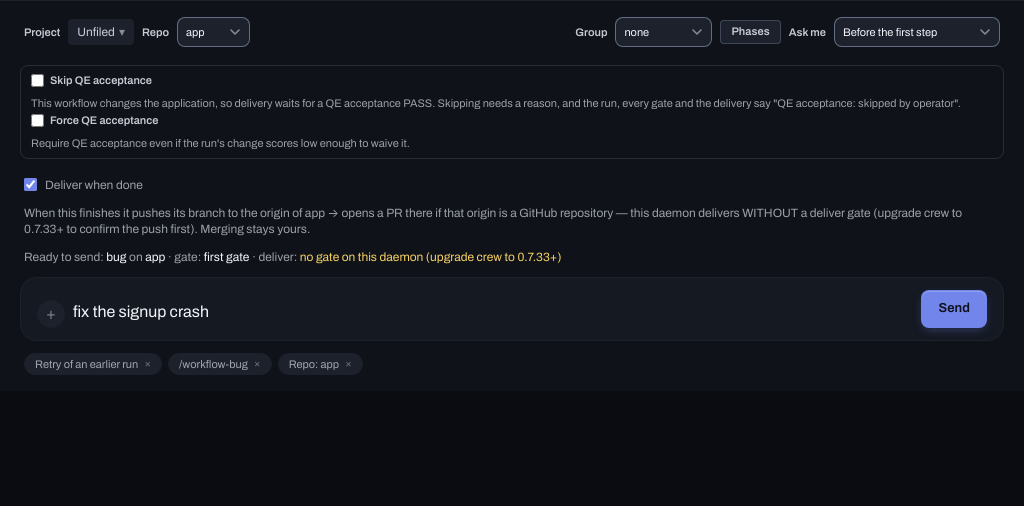
the composer: a launch refused because QE acceptance is required › an older crew’s sentence-only refusal gets the same warning
The image size is (1024, 506).
What coordinates should you click on to do the following:
click the button with test id "launch-submit"
I would click on:
 (954, 308)
Its box is [922,290,987,328].
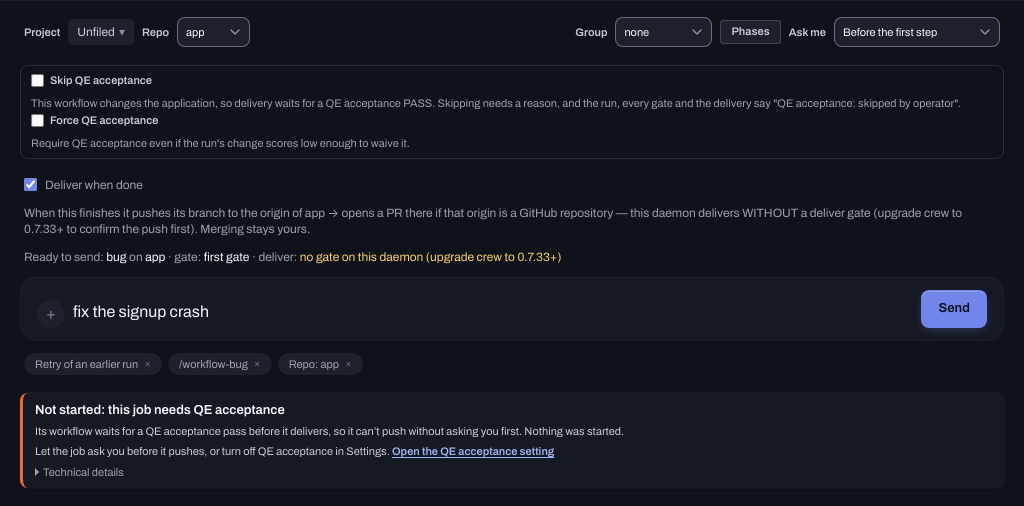
Expected: the message with test id "launch-qe-refused" is shown, [20,393,1004,488]
